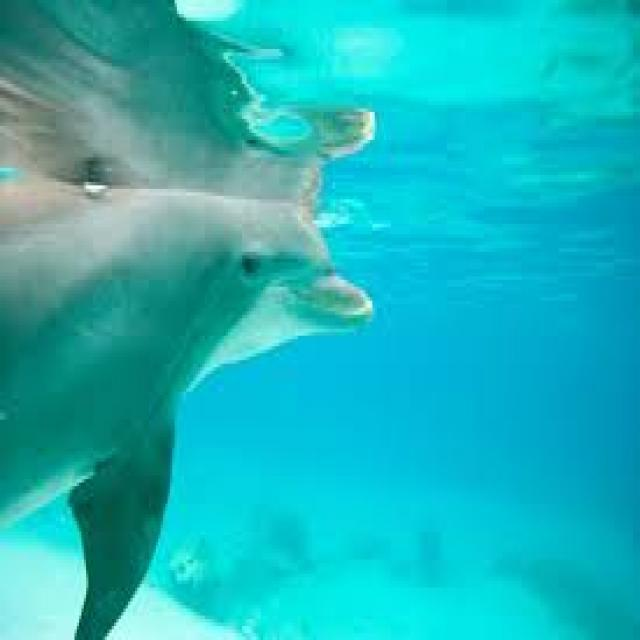dolphin: (0, 133, 375, 640)
